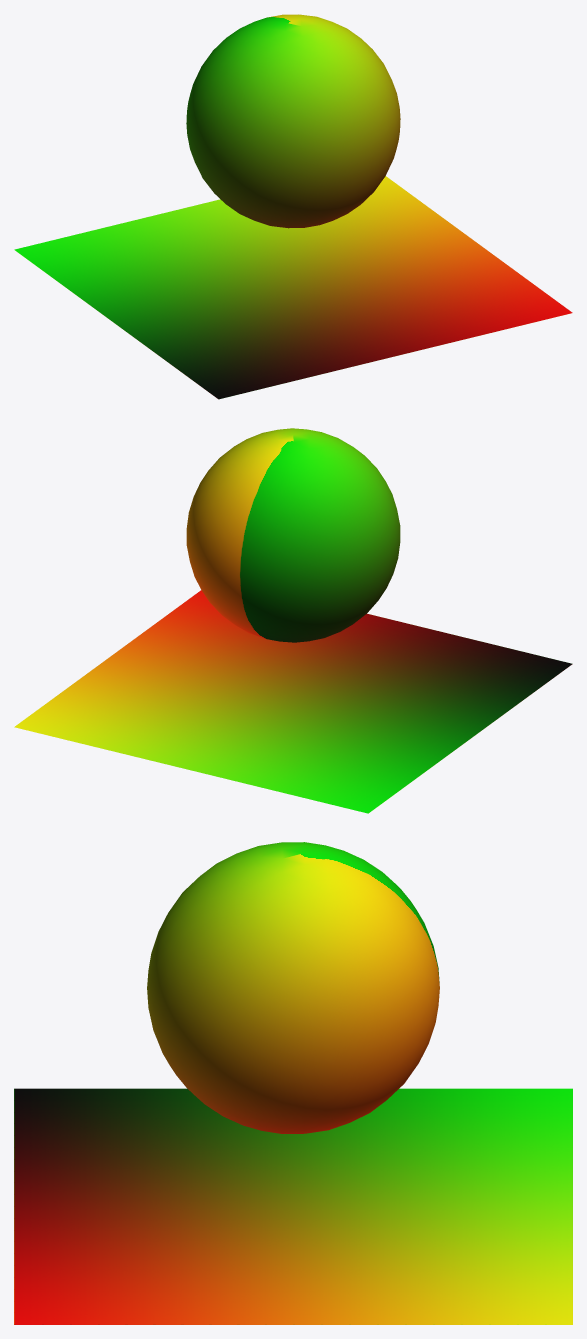
The picture shows the model from 3 angles, top to bottom: view 1: azimuth 30°, elevation 25°; view 2: azimuth 150°, elevation 25°; view 3: azimuth 270°, elevation 25°; orthographic projection. The views are drawn at different scales.
Visible parts, largest first — view 1: pPlane1, pPlatonic1; view 2: pPlane1, pPlatonic1; view 3: pPlane1, pPlatonic1.
Part boxes in pixels (x1=…): pPlane1: x1=14, y1=176, x2=572, y2=399; pPlatonic1: x1=186, y1=14, x2=400, y2=228; pPlane1: x1=14, y1=590, x2=572, y2=813; pPlatonic1: x1=186, y1=428, x2=400, y2=642; pPlane1: x1=14, y1=1088, x2=572, y2=1324; pPlatonic1: x1=147, y1=842, x2=439, y2=1133.
Size of the model in its own units: 2.86 by 1.98 by 2.86.
